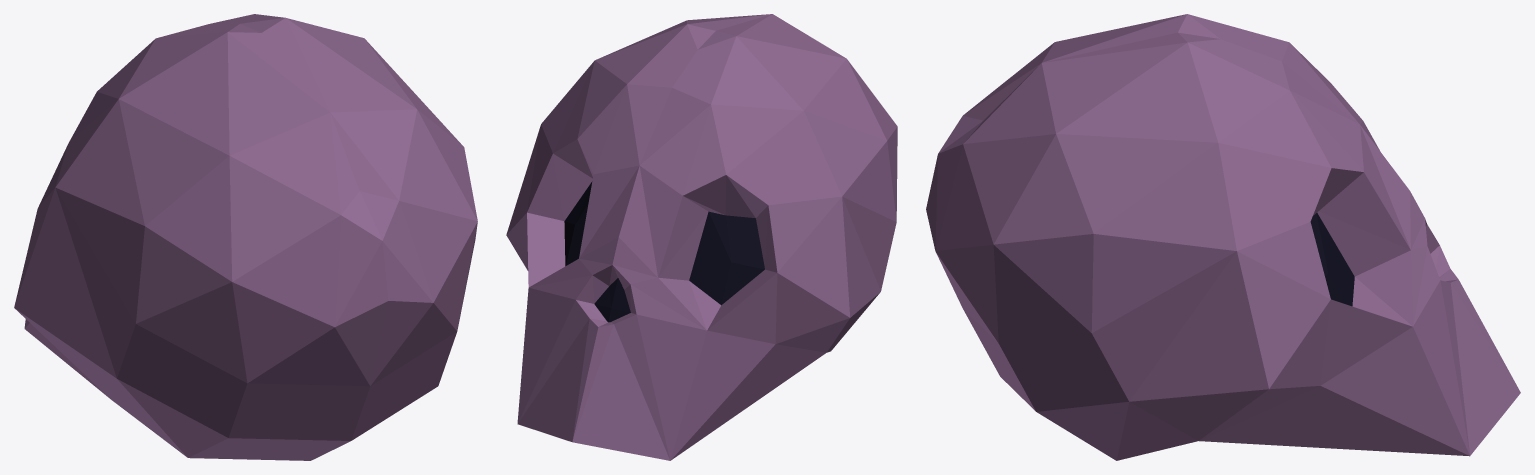
The model's file is Skull.fbx.
3 renders of one model, left to right at view 1: azimuth 30°, elevation 25°; view 2: azimuth 150°, elevation 25°; view 3: azimuth 270°, elevation 25°, orthographic. The views are drawn at different scales.
Visible parts, largest first — view 1: GeoSphere010; view 2: GeoSphere010; view 3: GeoSphere010.
Part boxes in pixels (x1=…): GeoSphere010: x1=14, y1=14, x2=477, y2=460; GeoSphere010: x1=506, y1=14, x2=897, y2=460; GeoSphere010: x1=926, y1=14, x2=1520, y2=460.
Bounding box in the file's own units: 14.45 × 18.34 × 14.07.
